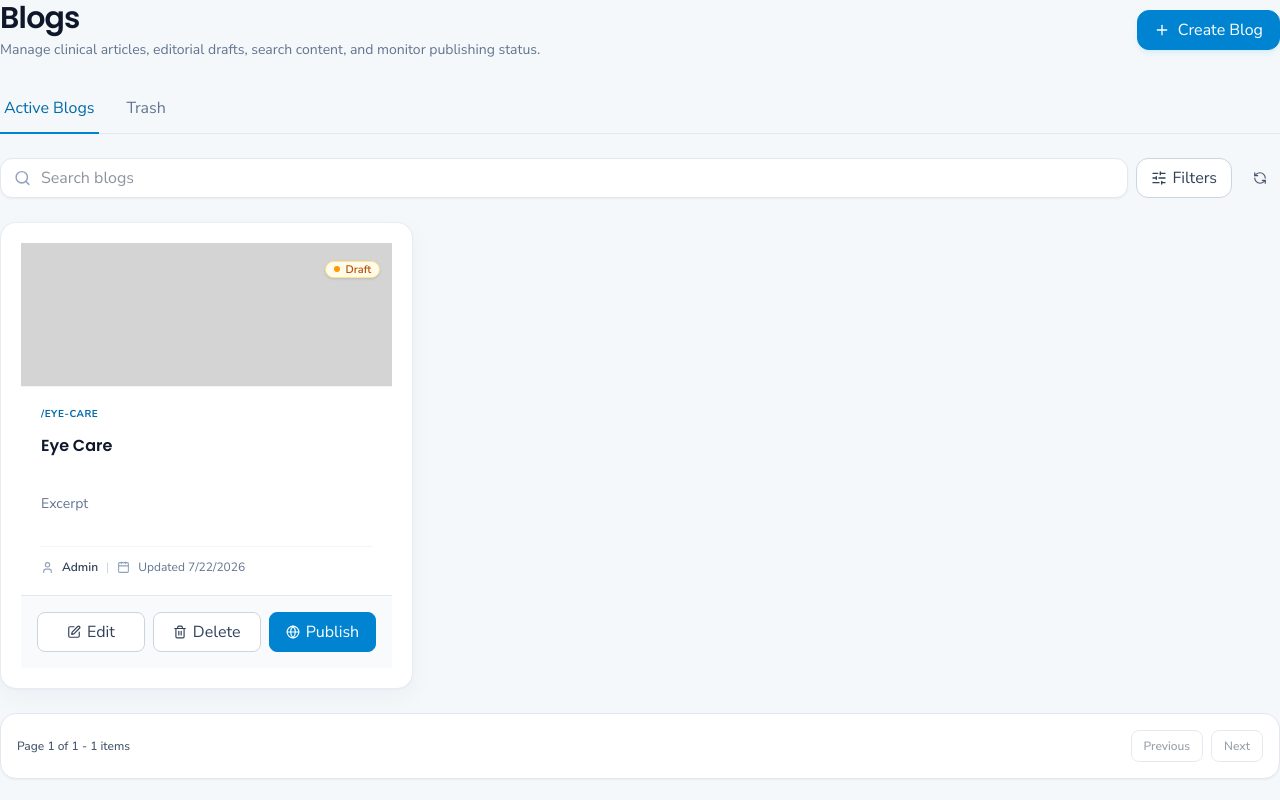
Test: BlogsPage › opens the full article preview from the card image
Check: the heading "Eye Care" is shown, box 41,434 -> 112,457
What coordinates should you click on to do the following:
click the button named "Preview Eye Care"
I would click on:
 (207, 314)
Its box is 21,243 -> 392,386.
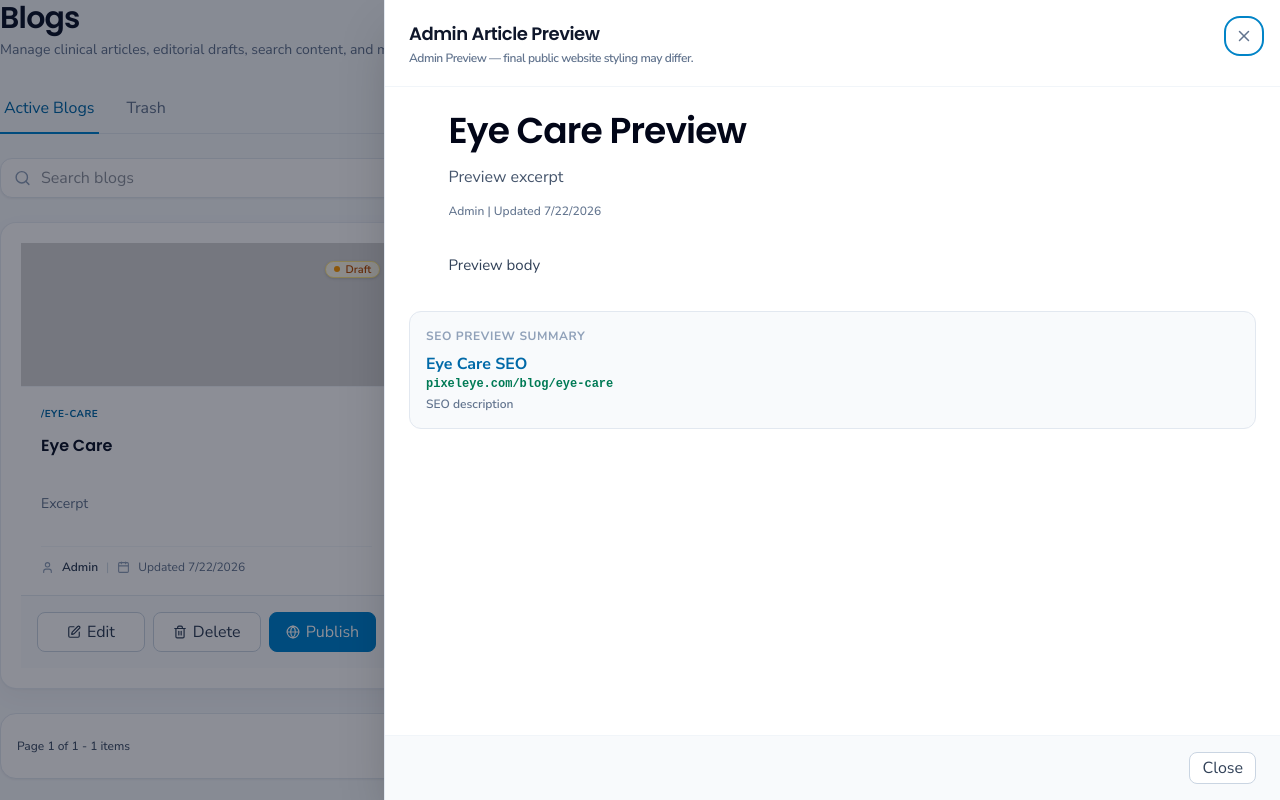
Check: the heading "Admin Article Preview" is shown, box 409,21 -> 600,46
Check: the heading "Eye Care Preview" is shown, box 448,111 -> 746,156
